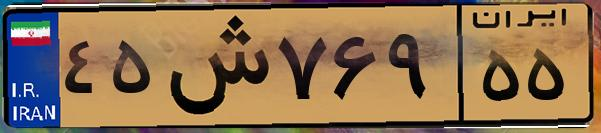4: (57, 26, 110, 100)
5: (475, 38, 525, 113), (525, 38, 570, 115), (110, 28, 158, 98)
6: (330, 28, 385, 110)
7: (270, 28, 330, 110)
9: (385, 28, 445, 110)
ش: (158, 12, 270, 120)
